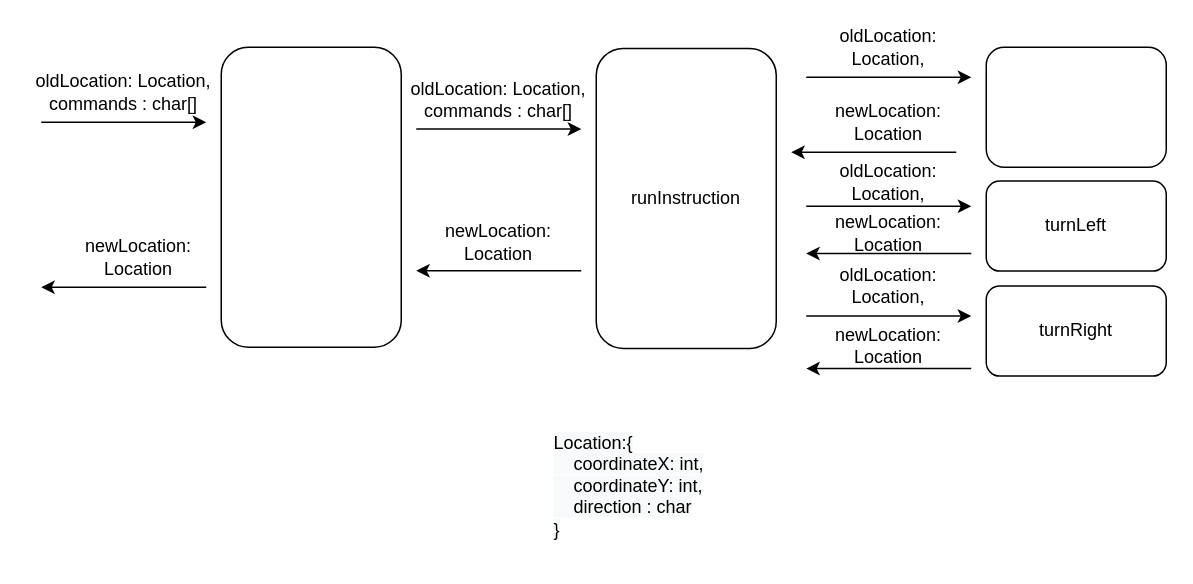
Image size: 1193x584. Some labels were removed from this diagram. Here are the shapes that lost their labels. From the top down, the centre of each, then its label:
At point 1075,106: "move".
At point 310,196: "instructMarsRover".
